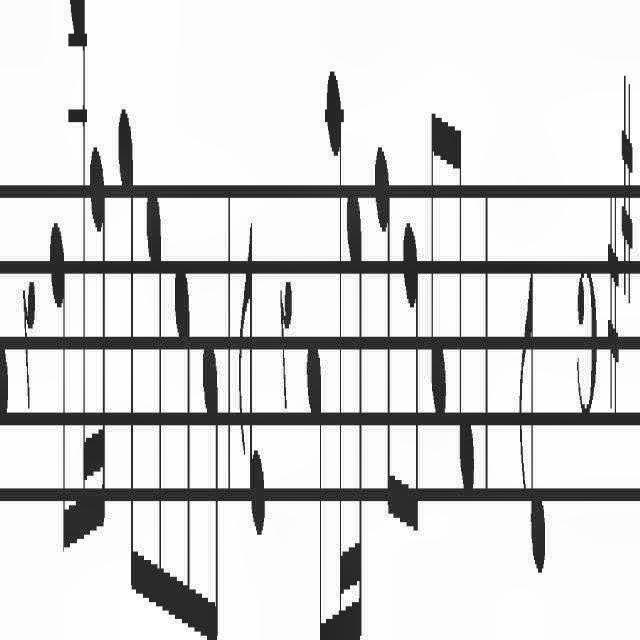Diez: (619, 50, 633, 318), (606, 180, 618, 408)
Eighth-note: (513, 221, 551, 607), (234, 198, 272, 572), (117, 70, 139, 636), (456, 83, 484, 520), (172, 219, 199, 640), (146, 147, 166, 640), (373, 121, 395, 558), (49, 196, 71, 598), (428, 70, 450, 467), (402, 206, 422, 578), (202, 324, 222, 640), (305, 299, 323, 640), (0, 74, 12, 446)
Eighth-rest: (20, 237, 36, 447), (278, 257, 294, 415)
Sixteenth-note: (328, 42, 348, 640), (72, 0, 92, 580), (88, 115, 112, 577), (346, 156, 366, 640)
